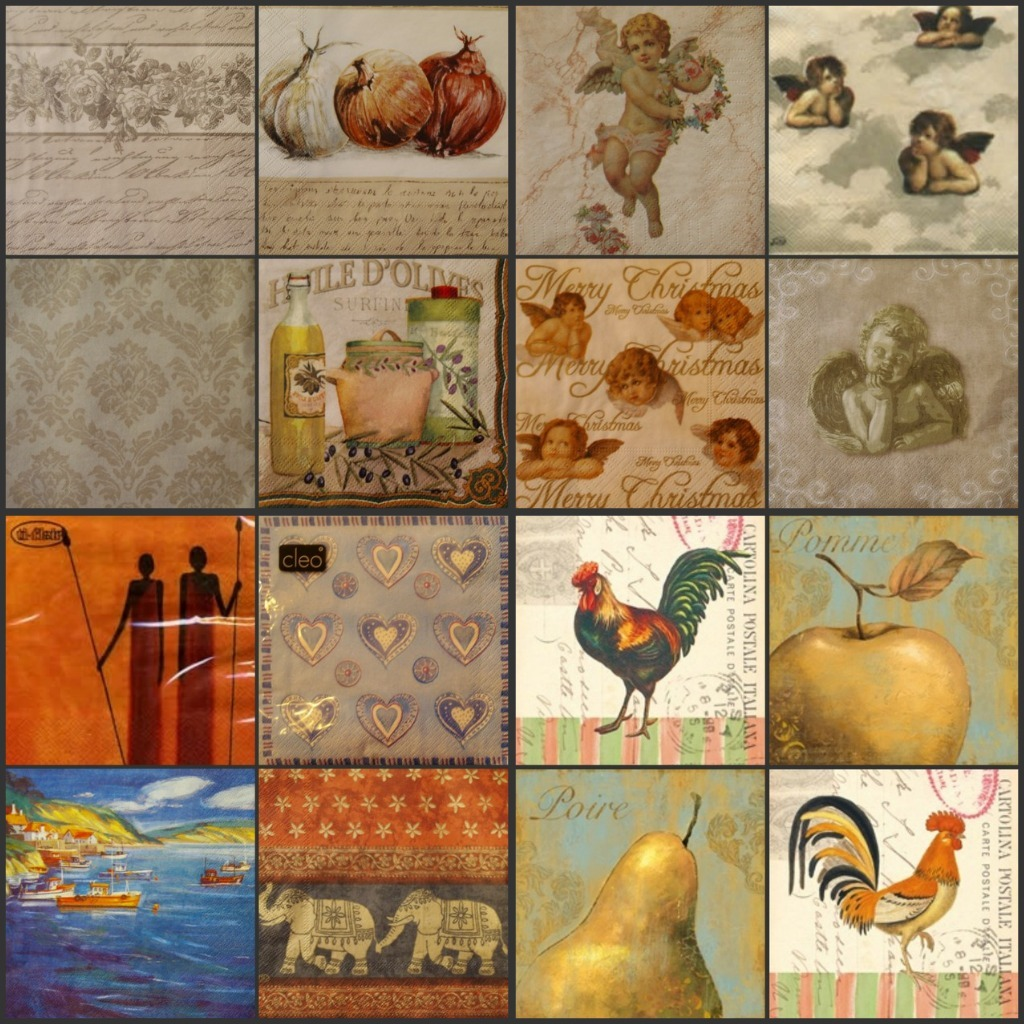Apple: (766, 549, 974, 768)
